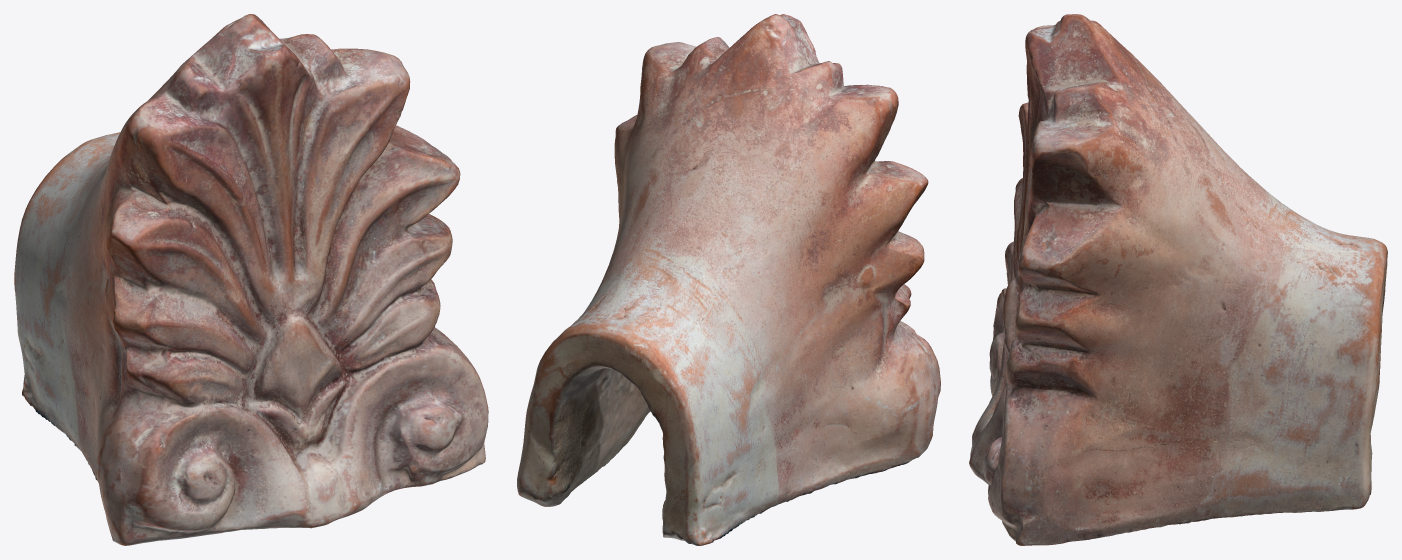
File: Akrokeramo.glb
The picture shows the model from 3 angles, left to right: view 1: azimuth 30°, elevation 25°; view 2: azimuth 150°, elevation 25°; view 3: azimuth 270°, elevation 25°; orthographic projection. The views are drawn at different scales.
Parts seen in each view (by area): view 1: mesh_0; view 2: mesh_0; view 3: mesh_0.
Part boxes in pixels (x1=…): mesh_0: x1=14, y1=14, x2=488, y2=545; mesh_0: x1=517, y1=14, x2=940, y2=545; mesh_0: x1=969, y1=14, x2=1387, y2=545.
Bounding box in the file's own units: 0.098 × 0.1225 × 0.1037.
Materials: 1 (1 with a texture image).
